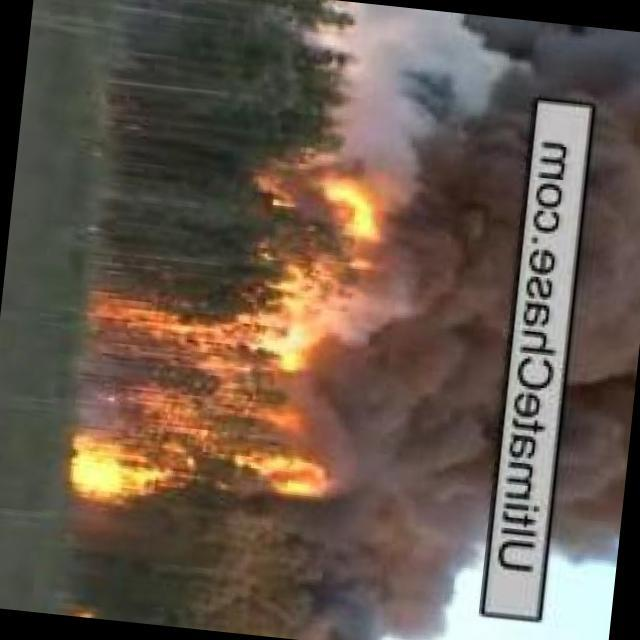Fire: (56, 278, 358, 530), (264, 154, 403, 251)
